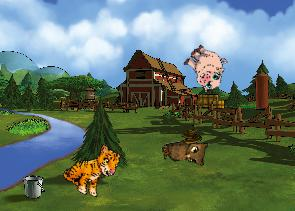owl: (160, 137, 211, 172)
pig: (177, 39, 233, 95)
tiger: (59, 134, 124, 203)
